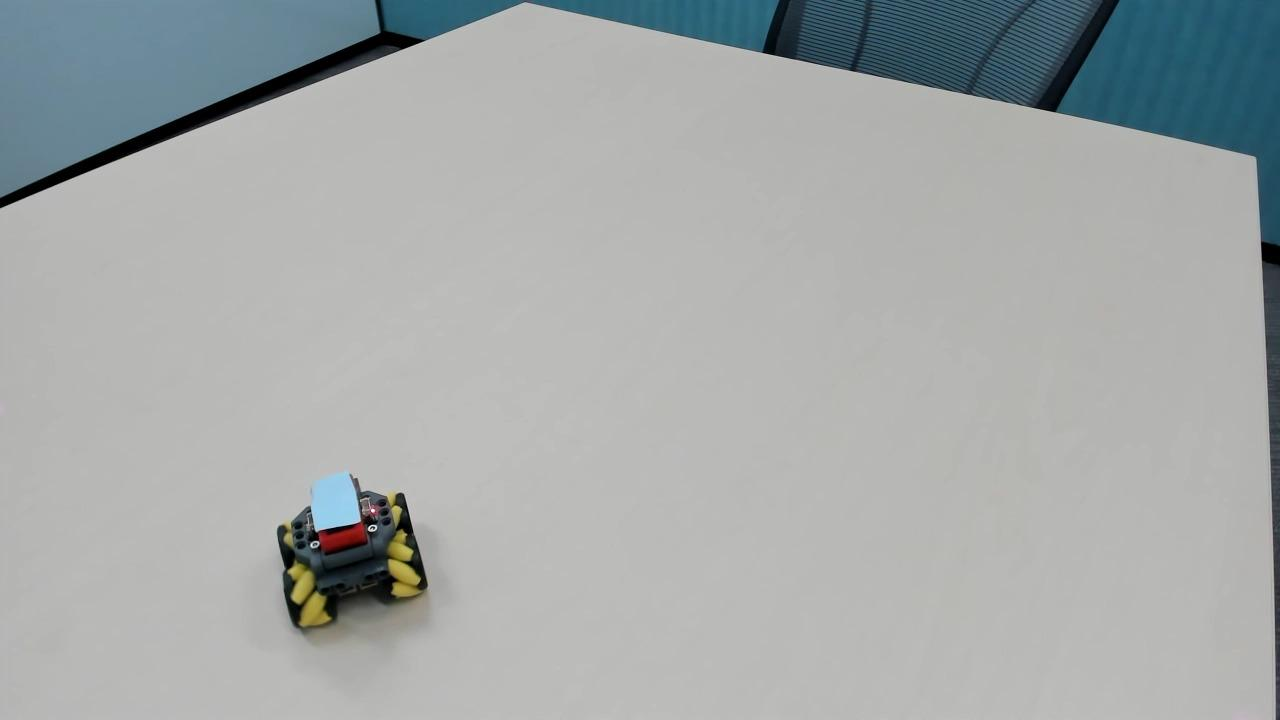B-Robot: (255, 455, 438, 652)
